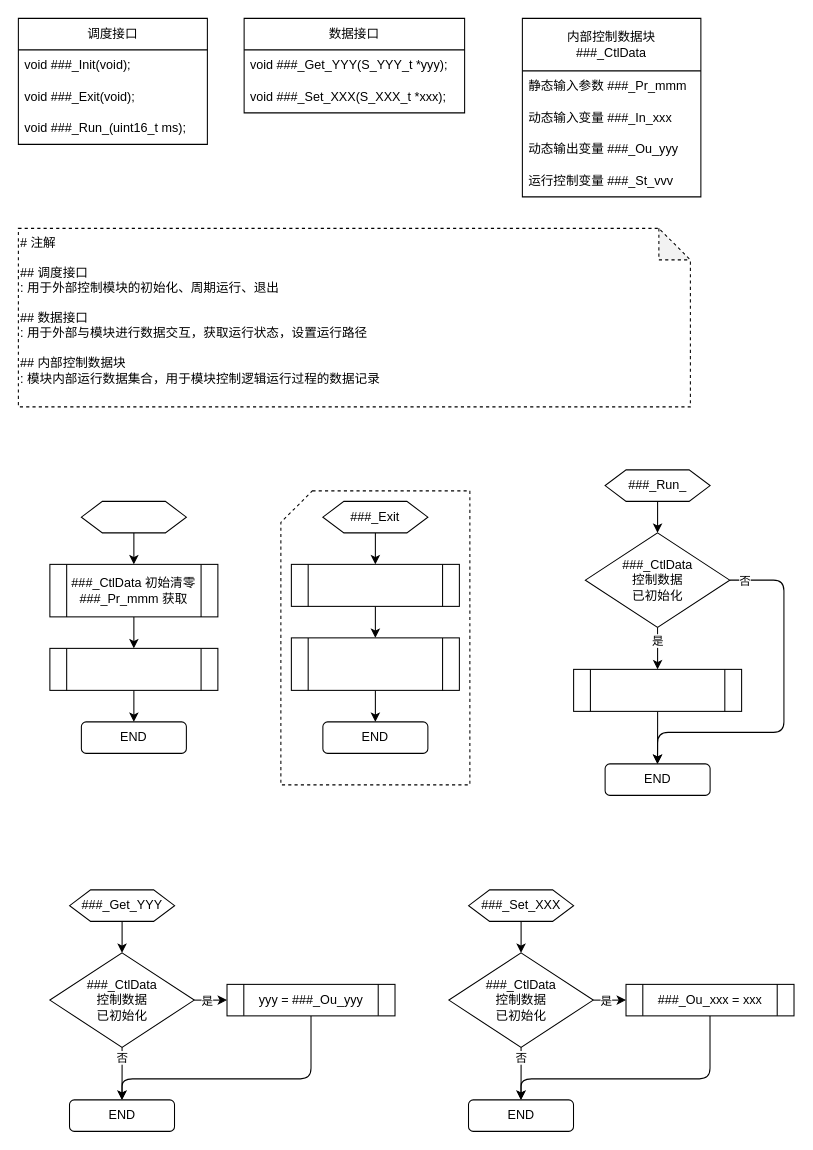
Some shapes in this 813 by 1150 pixel diagram are drawn without their labels. The shapes that lost their labels are listed below. From the top down, each one's centre as x and y in pixels, then its label:
At [133,516]: "###_Init".
At [374,584]: "###_EXIT 初始化".
At [133,668]: "###_INIT 初始化".
At [374,663]: "###_CtlData 去初始化清零".
At [657,689]: "###_RUN 运行".
